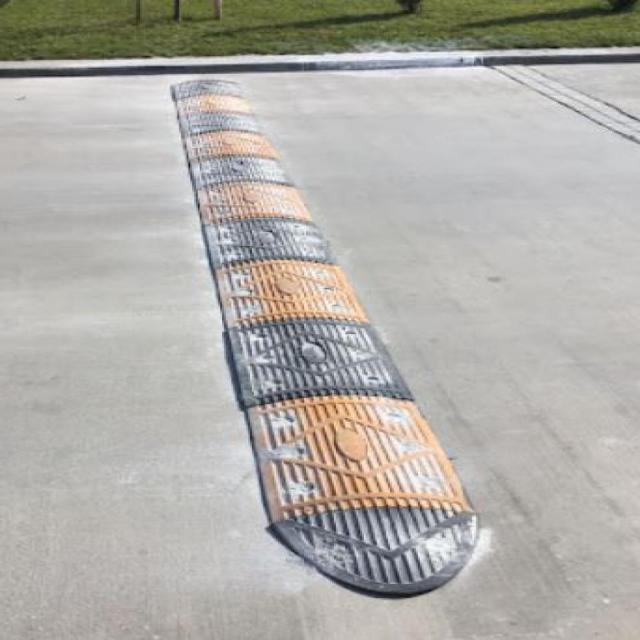Speed_Breaker: (164, 57, 486, 602), (169, 64, 480, 600)
